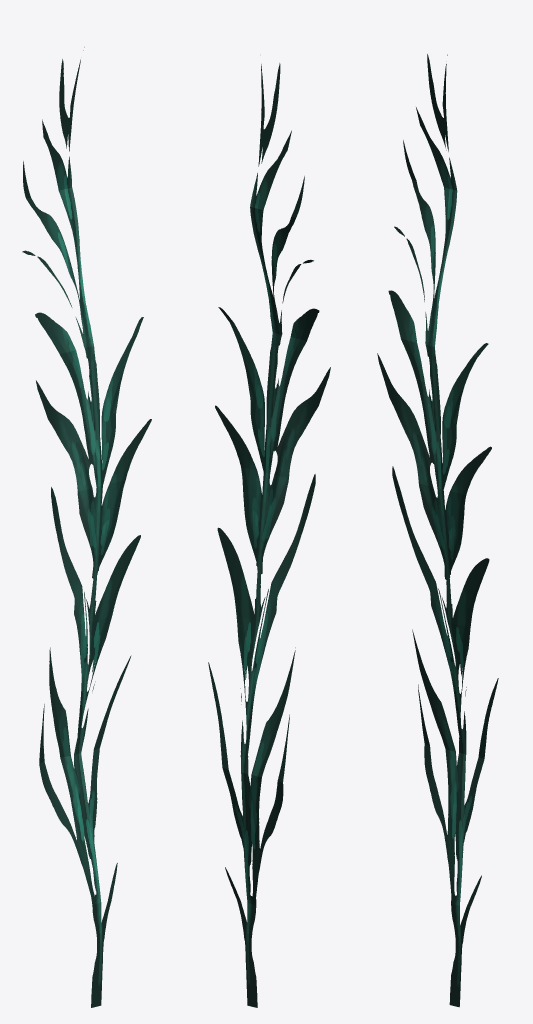
Rendered from Kelp2.fbx.
The picture shows the model from 3 angles, left to right: view 1: azimuth 30°, elevation 25°; view 2: azimuth 150°, elevation 25°; view 3: azimuth 330°, elevation 25°; orthographic projection.
Parts seen in each view (by area): view 1: Kelp 2; view 2: Kelp 2; view 3: Kelp 2.
Part boxes in pixels (<box>): Kelp 2: <box>22,47,151,1007</box>; Kelp 2: <box>208,63,330,1007</box>; Kelp 2: <box>377,54,498,1007</box>.
Bounding box in the file's own units: 144 × 1028 × 41.69.
1 material, 1 textured.
